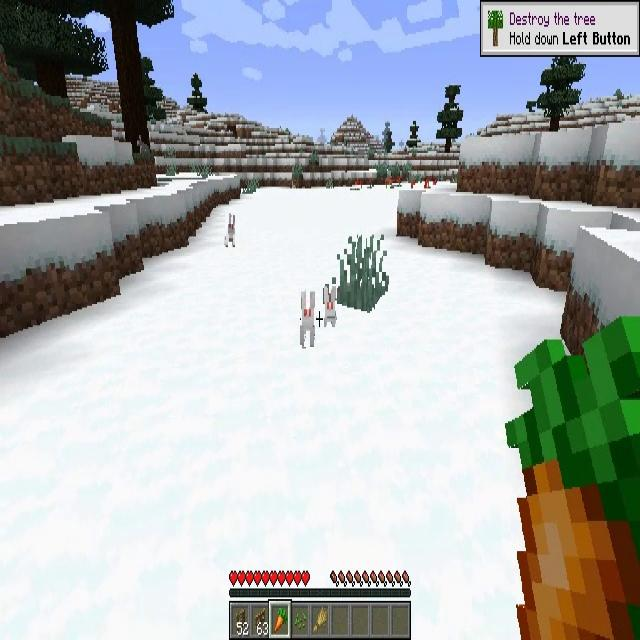rabbit: (300, 288, 316, 347), (323, 284, 338, 328), (225, 213, 235, 248)
